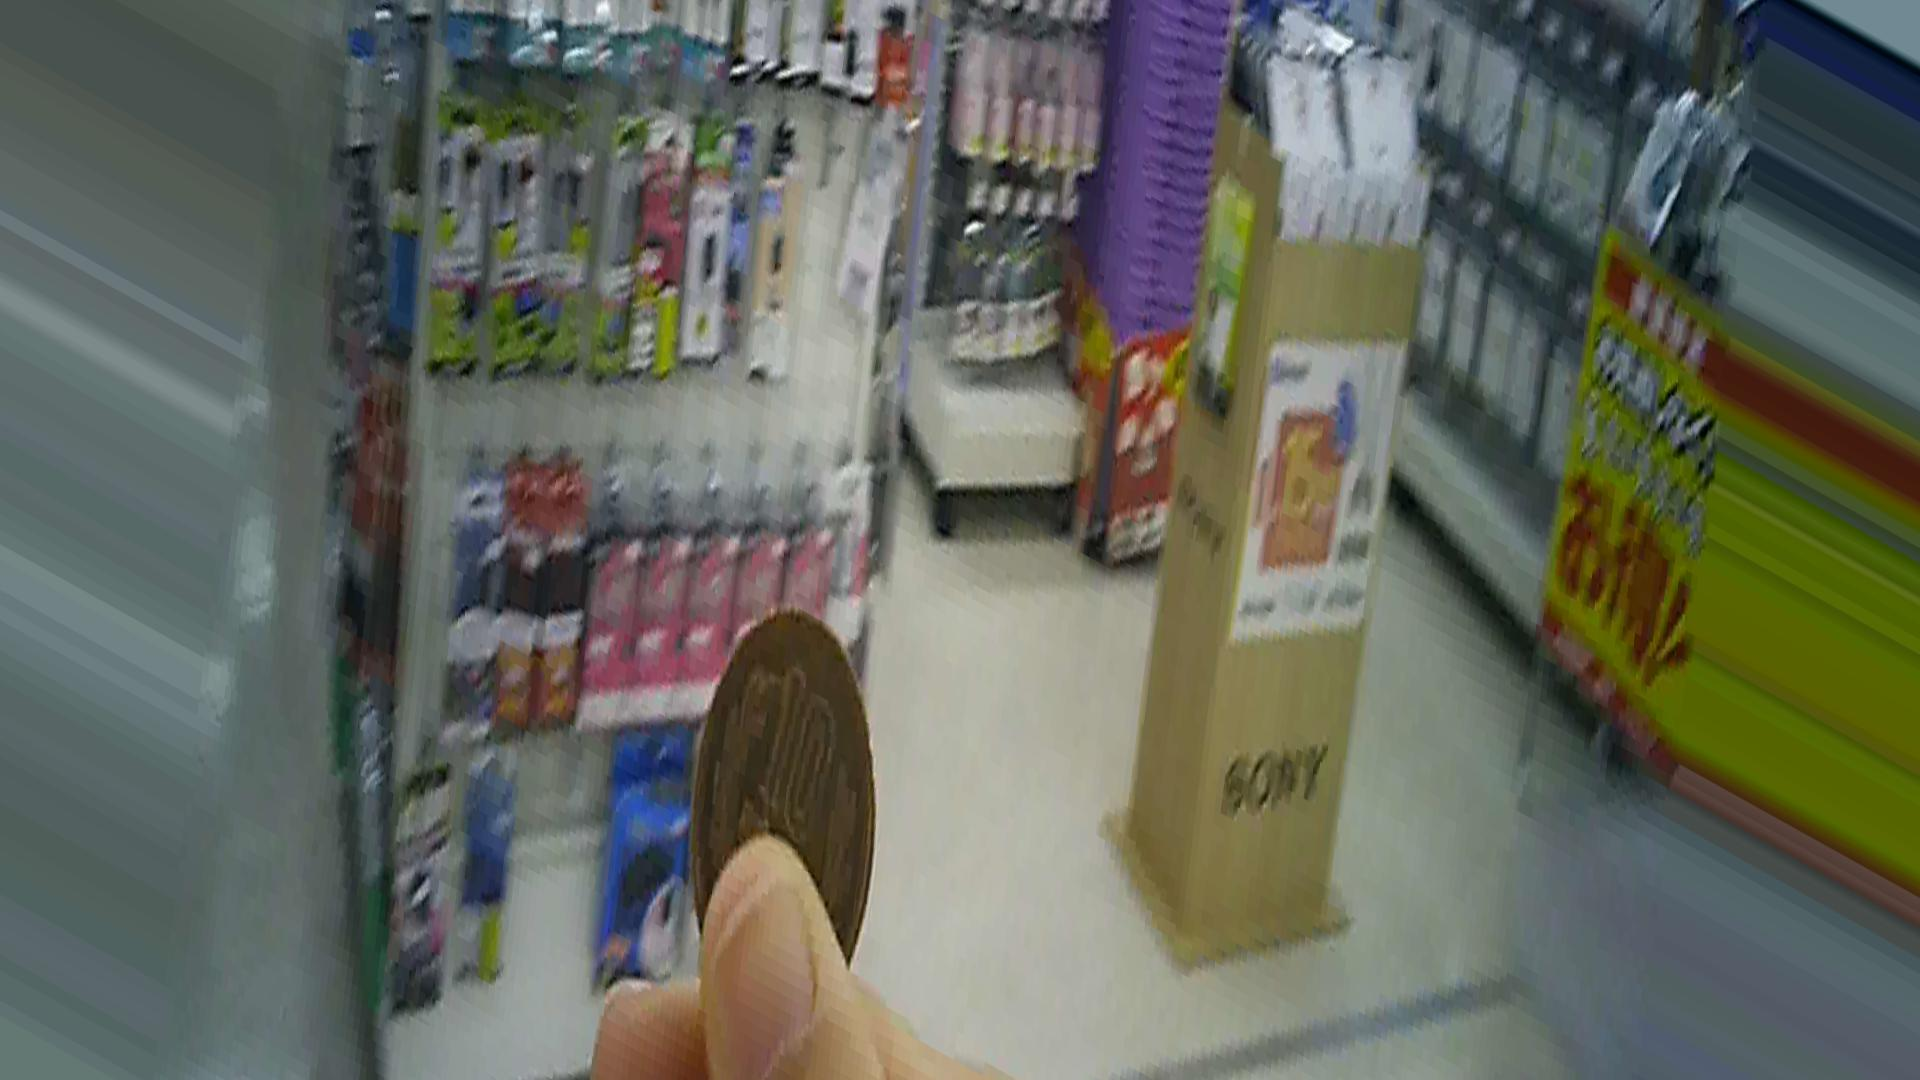10 Yen: (669, 603, 881, 980)
